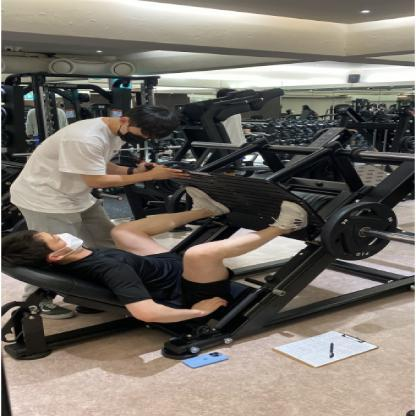leg press: (10, 69, 416, 373)
